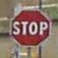stop: (8, 5, 52, 49)
